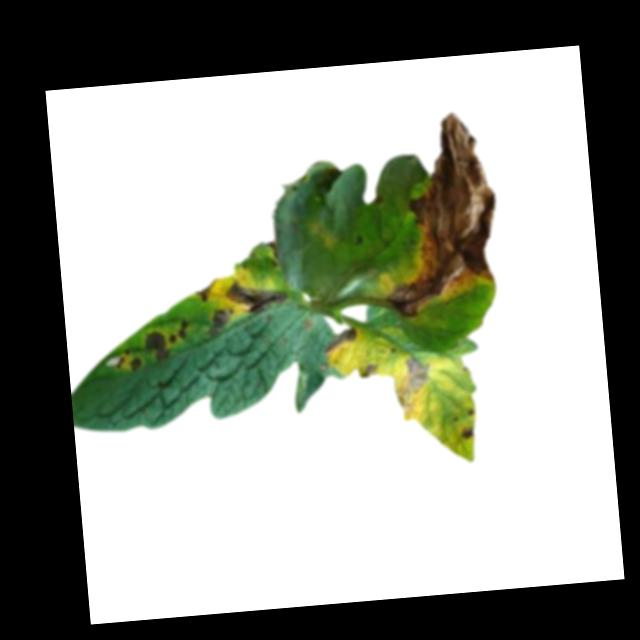Early_blight: (373, 108, 504, 316), (223, 276, 289, 316), (394, 354, 433, 410), (322, 324, 359, 355), (203, 305, 234, 335), (143, 329, 169, 360), (194, 276, 218, 304), (113, 350, 142, 373), (356, 357, 382, 379), (168, 318, 188, 343), (460, 422, 474, 439)
